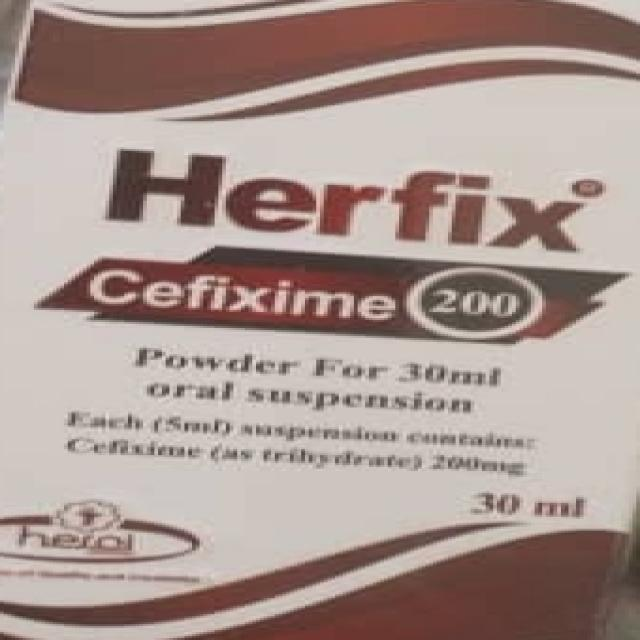drug-name: (102, 140, 615, 255)
